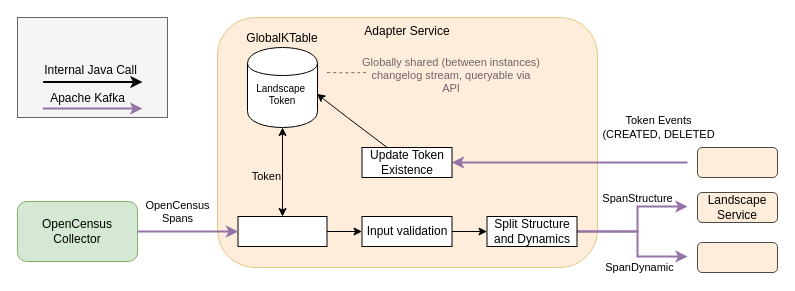
Some shapes in this 795 by 291 pixel diagram are drawn without their labels. The shapes that lost their labels are listed below. From the top down, each one's box as (x1, y1, x2, y2) in pixels, then its label:
(16, 16, 168, 118): Communication Technologies
(696, 146, 778, 178): User Service
(237, 216, 327, 246): Validate Token Existence
(696, 242, 778, 272): Trace Service
